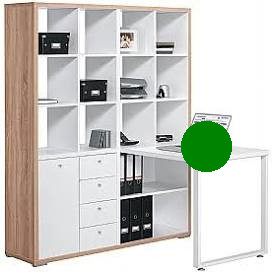focus: (180, 119, 232, 173)
